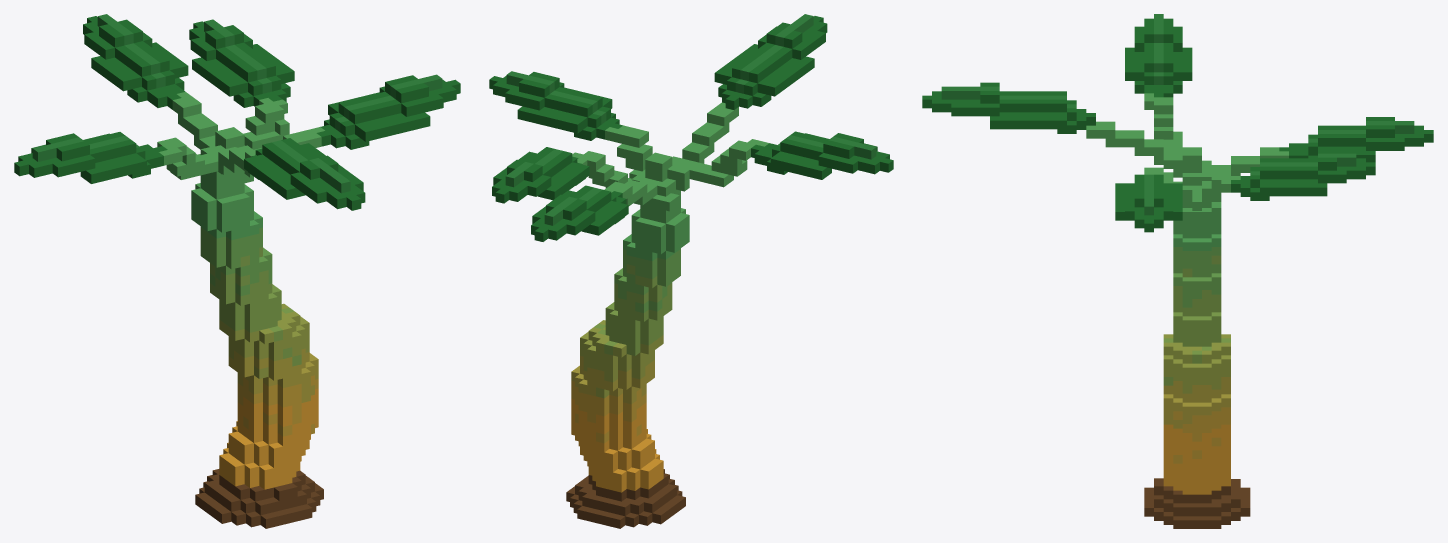
Rendered from 2_3 bana.vox.obj.
3 renders of one model, left to right at view 1: azimuth 30°, elevation 25°; view 2: azimuth 150°, elevation 25°; view 3: azimuth 270°, elevation 25°, orthographic. The views are drawn at different scales.
Size of the model in its own units: 4.7 by 4.5 by 5.3.
Materials: 1 (1 with a texture image).
